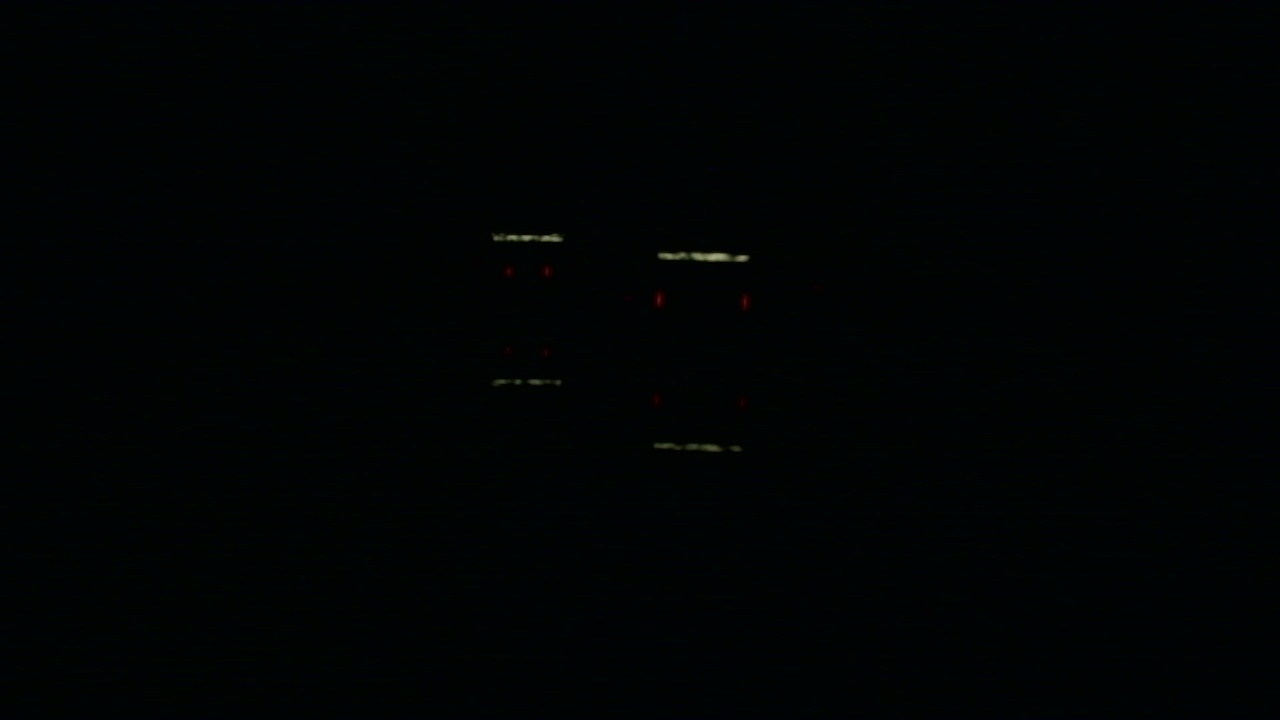pair1: (507, 268, 549, 275)
pair2: (653, 291, 749, 309)
